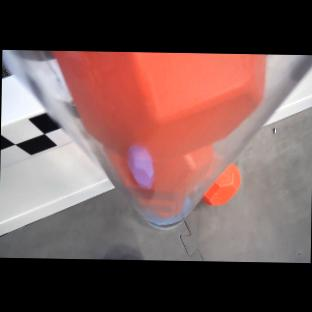V5_RED: (201, 163, 239, 206)
redloader: (52, 50, 266, 153), (107, 151, 214, 193), (134, 193, 191, 220)
